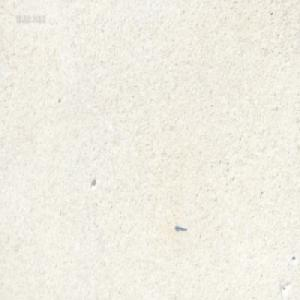Nail: (174, 222, 186, 230)
